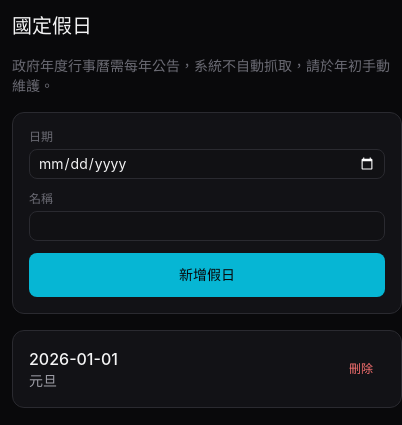
it: 刪除假日直接執行，不需二次確認
Expected: the text "元旦" is shown, left=29, top=372, right=57, bottom=389
Click the button "刪除".
click(361, 369)  # box left=337, top=347, right=385, bottom=391
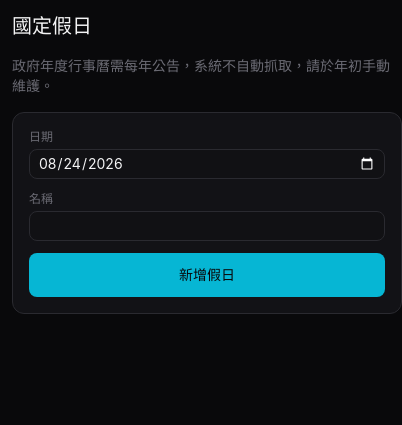
Now the text "元旦" is gone
